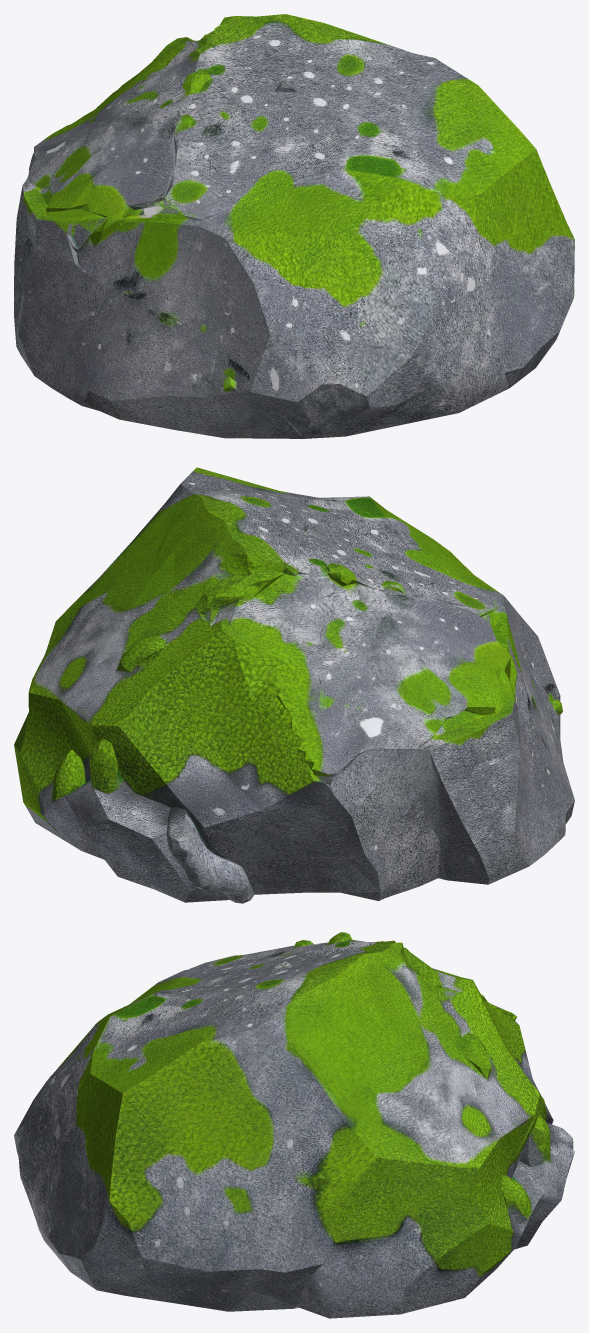
Rendered from rock.glb.
The picture shows the model from 3 angles, top to bottom: view 1: azimuth 30°, elevation 25°; view 2: azimuth 150°, elevation 25°; view 3: azimuth 270°, elevation 25°; orthographic projection. The views are drawn at different scales.
Size of the model in its own units: 1.75 by 1.06 by 1.9.
1 material, 1 textured.
